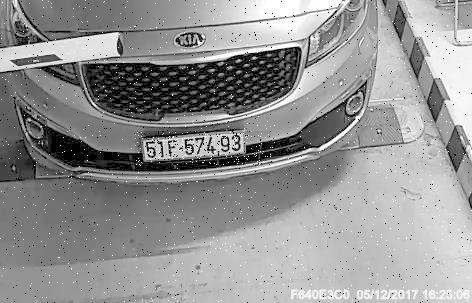License-plate: (137, 132, 274, 166)
